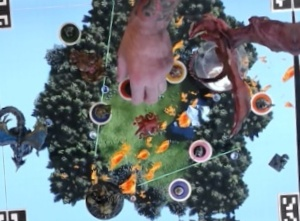blue: (87, 99, 114, 126)
green: (56, 21, 81, 46)
orange: (249, 89, 276, 117)
pink: (186, 136, 214, 163)
red: (117, 74, 141, 100)
violet: (166, 174, 193, 200)
yellow: (163, 55, 189, 83)
